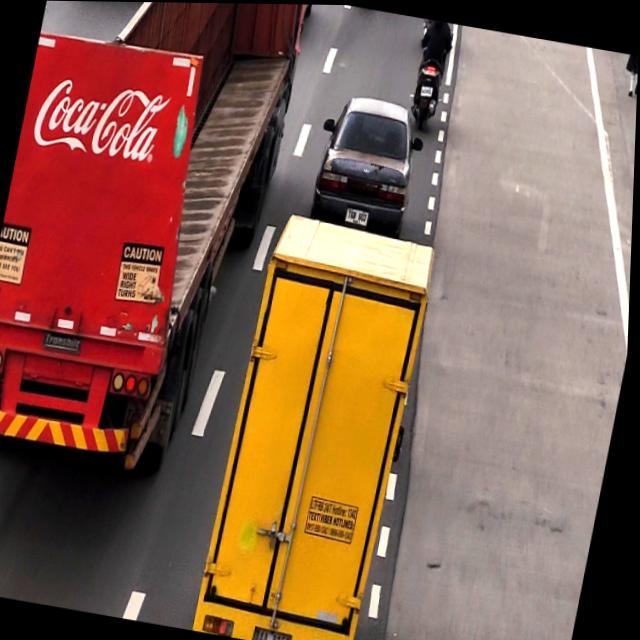Car: (308, 90, 434, 234)
License-Plate: (255, 623, 301, 640), (346, 203, 372, 227), (420, 81, 437, 99), (0, 374, 3, 407)
Motorcycle: (401, 17, 457, 135)
Truck: (204, 210, 440, 640)
